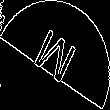M_SW: (29, 22, 81, 88)
